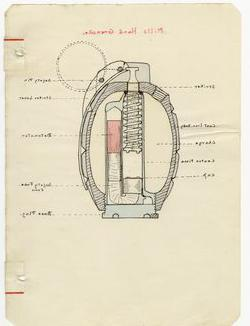Grenade: (77, 60, 180, 223)
